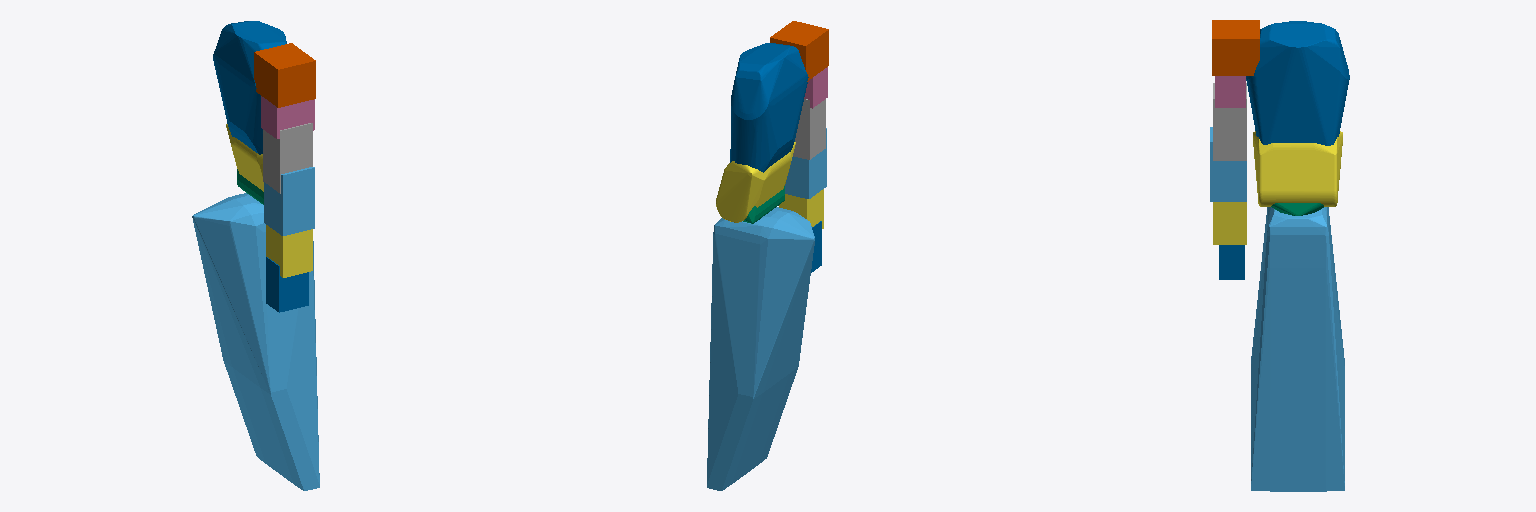
robot.urdf — test_arm:

<robot name="test_arm">

<link name="world" />

<joint name="world_to_base" type="fixed">
<parent link="world" />
<child link="root_link" />
<origin rpy="0 0 0" xyz="0 0 0" />
</joint>


<link name="root_link">
<visual>
<origin xyz="9.47873756175138e-18 -2.856872724499304e-17 -0.024000000000000684" rpy="-2.7618585142051945e-16 -0.0 6.8534929388594916e-31" />
<geometry>
<mesh filename=".//meshes/urdf/obj_combined_hulls/root_link.obj" />
</geometry>
</visual>
<collision>
<origin xyz="9.47873756175138e-18 -2.856872724499304e-17 -0.024000000000000684" rpy="-2.7618585142051945e-16 -0.0 6.8534929388594916e-31" />
<geometry>
<mesh filename=".//meshes/urdf/obj_combined_hulls/root_link.obj" />
</geometry>
</collision>
<inertial>
<origin xyz="0.00679928302344931 6.653692674201541e-07 -0.27815003570157115" rpy="0 0 0" />
<mass value="7.183594348600132" />
<inertia ixx="0.31483080293207405" ixy="5.062017097616084e-07" ixz="0.021323894598139104" iyy="0.3143282448173946" iyz="-1.2779834144653864e-06" izz="0.032395636611825186" />
</inertial>
</link>


<link name="torso_yaw_link">
<visual>
<origin xyz="0.0 1.262177448353619e-29 4.3368086899380734e-19" rpy="-1.8325957145940461 1.5707963267948966 0.0" />
<geometry>
<mesh filename=".//meshes/urdf/obj_combined_hulls/torso_yaw_link.obj" />
</geometry>
</visual>
<collision>
<origin xyz="0.0 1.262177448353619e-29 4.3368086899380734e-19" rpy="-1.8325957145940461 1.5707963267948966 0.0" />
<geometry>
<mesh filename=".//meshes/urdf/obj_combined_hulls/torso_yaw_link.obj" />
</geometry>
</collision>
<inertial>
<origin xyz="-0.00166403 -0.0101463 0.0623078" rpy="0 0 0" />
<mass value="1.922" />
<inertia ixx="0.006378107099964676" ixy="6.59823948125347e-05" ixz="4.522349518090528e-05" iyy="0.00268619309683605" iyz="0.0003399816945047182" izz="0.005342834122218298" />
</inertial>
</link>

<joint name="torso_yaw" type="revolute">
<origin xyz="-3.1105803444498797e-15 -5.762979069651171e-14 3.187988067975982e-15" rpy="3.7495554139391605e-14 2.213579307108516e-14 -1.4624371897651312e-14" />
<parent link="root_link" />
<child link="torso_yaw_link" />
<axis xyz="2.2135793071084816e-14 -3.77717399908133e-14 1.0000000000000007" />
<limit effort="70.0" velocity="4.1" lower="-0.7853981633974483" upper="0.7853981633974483" />

</joint>

<link name="torso_pitch_lower_link">
<visual>
<origin xyz="0.08 0.0 -0.08549999999999999" rpy="-1.5707963267948966 5.328688394996611e-30 1.5707963267948966" />
<geometry>
<mesh filename=".//meshes/urdf/obj_combined_hulls/torso_pitch_lower_link.obj" />
</geometry>
</visual>
<collision>
<origin xyz="0.08 0.0 -0.08549999999999999" rpy="-1.5707963267948966 5.328688394996611e-30 1.5707963267948966" />
<geometry>
<mesh filename=".//meshes/urdf/obj_combined_hulls/torso_pitch_lower_link.obj" />
</geometry>
</collision>
<inertial>
<origin xyz="-0.07573732954220565 -0.012714319395604561 -0.07998181952541111" rpy="0 0 0" />
<mass value="0.5423763129502652" />
<inertia ixx="0.0035963261683322626" ixy="-0.00025112304608164296" ixz="1.1650452549459382e-05" iyy="0.004013441490397242" iyz="5.2337508120182574e-06" izz="0.0017308649418825922" />
</inertial>
</link>

<joint name="torso_pitch_lower" type="revolute">
<origin xyz="-3.8322800119873655e-15 -0.08550037499999534 0.05599999999998974" rpy="1.5707963267948197 1.5707963267948657 0.0" />
<parent link="torso_yaw_link" />
<child link="torso_pitch_lower_link" />
<axis xyz="-3.059755751267585e-14 6.233280923648332e-14 1.0000000000000073" />
<limit effort="70.0" velocity="4.1" lower="-0.5235987755982988" upper="0.2617993877991494" />

</joint>

<link name="torso_pitch_upper_link">
<visual>
<origin xyz="0.0 2.7755575615628914e-17 0.003500000000000003" rpy="-1.5519979019635813e-30 1.5707963267948966 0.0" />
<geometry>
<mesh filename=".//meshes/urdf/obj_combined_hulls/torso_pitch_upper_link.obj" />
</geometry>
</visual>
<collision>
<origin xyz="0.0 2.7755575615628914e-17 0.003500000000000003" rpy="-1.5519979019635813e-30 1.5707963267948966 0.0" />
<geometry>
<mesh filename=".//meshes/urdf/obj_combined_hulls/torso_pitch_upper_link.obj" />
</geometry>
</collision>
<inertial>
<origin xyz="-0.015243445582268634 -0.14733934317604153 0.07604282037510816" rpy="0 0 0" />
<mass value="5.391439784540943" />
<inertia ixx="0.08453956115277658" ixy="-0.004628728157891779" ixz="0.0007906091526285789" iyy="0.028338851252210997" iyz="0.006181040264228648" izz="0.06417020298910171" />
</inertial>
</link>

<joint name="torso_pitch_upper" type="continuous">
<origin xyz="-0.09272887864750137 -0.02484663665963369 9.575673587391975e-16" rpy="-3.141592653589763 2.1637508065301426e-17 1.5707963267948966" />
<parent link="torso_pitch_lower_link" />
<child link="torso_pitch_upper_link" />
<axis xyz="-1.8748044307837196e-17 -3.013566795201047e-14 0.9999999999999998" />
<mimic joint="torso_pitch_lower" multiplier="-1.0" offset="0" />
<limit effort="70.0" velocity="4.1" />

</joint>


<link name="right_shoulder_fe_link">
<visual>
<origin xyz="-6.938893903907228e-18 0.0 0.06937500000000008" rpy="-5.586166405652295e-31 1.0471975511965979 1.5707963267948966" />
<geometry>
<mesh filename=".//meshes/urdf/obj_combined_hulls/right_shoulder_fe_link.obj" />
</geometry>
</visual>
<collision>
<origin xyz="-6.938893903907228e-18 0.0 0.06937500000000008" rpy="-5.586166405652295e-31 1.0471975511965979 1.5707963267948966" />
<geometry>
<mesh filename=".//meshes/urdf/obj_combined_hulls/right_shoulder_fe_link.obj" />
</geometry>
</collision>
<inertial>
<origin xyz="0.01804580832985173 0.02121518988650123 0.07186595457686923" rpy="0 0 0" />
<mass value="0.96" />
<inertia ixx="0.0011118011274775616" ixy="1.3330532192125175e-05" ixz="-0.00015374811936521172" iyy="0.0015260836322637708" iyz="-3.75399226410233e-06" izz="0.0012180806877555345" />
</inertial>
</link>

<joint name="right_shoulder_fe" type="revolute">
<origin xyz="-0.025653371670199543 -0.21558362067625494 -0.014419487612456233" rpy="2.6179938779914598 5.94530700557959e-14 -2.825363035797169e-14" />
<parent link="torso_pitch_upper_link" />
<child link="right_shoulder_fe_link" />
<axis xyz="1.8306063673256304e-15 5.398712404411842e-15 0.9999999999999682" />
<limit effort="36" velocity="8.9" lower="-0.7853981633974483" upper="3.141592653589793" />

</joint>



<link name="right_shoulder_aa_link">
<visual>
<origin xyz="0.0 2.7755575615628914e-17 -0.031625" rpy="-1.5707963267948966 -6.828148307168349e-30 1.5707963267948966" />
<geometry>
<mesh filename=".//meshes/urdf/obj_combined_hulls/right_shoulder_aa_link.obj" />
</geometry>
</visual>
<collision>
<origin xyz="0.0 2.7755575615628914e-17 -0.031625" rpy="-1.5707963267948966 -6.828148307168349e-30 1.5707963267948966" />
<geometry>
<mesh filename=".//meshes/urdf/obj_combined_hulls/right_shoulder_aa_link.obj" />
</geometry>
</collision>
<inertial>
<origin xyz="0.07196719932374168 -0.0007098319999853386 -0.031643070370183324" rpy="0 0 0" />
<mass value="0.778" />
<inertia ixx="0.000682161494531174" ixy="-2.2625796921700523e-05" ixz="2.1873666341189004e-06" iyy="0.001996192657199828" iyz="3.7615263729463516e-06" izz="0.0017492429411239572" />
</inertial>
</link>

<joint name="right_shoulder_aa" type="revolute">
<origin xyz="0.031625000000032516 -6.161737786669619e-15 0.06937500000000402" rpy="-1.5707963267951546 0.5235987755984383 -1.5707963267949658" />
<parent link="right_shoulder_fe_link" />
<child link="right_shoulder_aa_link" />
<axis xyz="1.300559538498458e-29 4.614183210861973e-13 0.9999999999999964" />
<limit effort="36" velocity="8.9" lower="-2.0943951023931953" upper="0" />

</joint>

<link name="right_shoulder_ie_link">
<visual>
<origin xyz="0.0 2.7755575615628914e-17 0.12912499999999996" rpy="-3.141592653589793 1.836970198721011e-16 4.5533793101955184e-29" />
<geometry>
<mesh filename=".//meshes/urdf/obj_combined_hulls/right_shoulder_ie_link.obj" />
</geometry>
</visual>
<collision>
<origin xyz="0.0 2.7755575615628914e-17 0.12912499999999996" rpy="-3.141592653589793 1.836970198721011e-16 4.5533793101955184e-29" />
<geometry>
<mesh filename=".//meshes/urdf/obj_combined_hulls/right_shoulder_ie_link.obj" />
</geometry>
</collision>
<inertial>
<origin xyz="0.0030550354452504387 -0.012093359926407128 0.07601648308677228" rpy="0 0 0" />
<mass value="0.8072296878184448" />
<inertia ixx="0.0019797222594324544" ixy="7.673159251833094e-05" ixz="-0.00018880428345477952" iyy="0.001851577667838464" iyz="0.0002895955851886462" izz="0.0007859102022404687" />
</inertial>
</link>

<joint name="right_shoulder_ie" type="revolute">
<origin xyz="0.12612595250008124 6.439293542825908e-15 -0.031624999999994935" rpy="-3.1415926535897474 -1.5707963267944338 0.0" />
<parent link="right_shoulder_aa_link" />
<child link="right_shoulder_ie_link" />
<axis xyz="-5.20639139448055e-16 3.085185518815391e-16 1.0000000000000189" />
<limit effort="19" velocity="8.9" lower="-1.5707963267948966" upper="1.5707963267948966" />

</joint>

<link name="right_shoulder_tracker_link" />

<joint name="right_shoulder_tracker" type="fixed">
<origin xyz="-0.005040000000000204 0.050999999999999865 0.07152500000000002" rpy="-1.5707963267948966 -1.836970198721011e-16 -3.141592653589793" />
<parent link="right_shoulder_ie_link" />
<child link="right_shoulder_tracker_link" />
</joint>


<link name="right_elbow_fe_link">
<visual>
<origin xyz="-2.7755575615628914e-17 0.010000000000000002 -0.026249999999999996" rpy="1.5707963267948966 3.390113629309306e-30 -1.5707963267948966" />
<geometry>
<mesh filename=".//meshes/urdf/obj_combined_hulls/right_elbow_fe_link.obj" />
</geometry>
</visual>
<collision>
<origin xyz="-2.7755575615628914e-17 0.010000000000000002 -0.026249999999999996" rpy="1.5707963267948966 3.390113629309306e-30 -1.5707963267948966" />
<geometry>
<mesh filename=".//meshes/urdf/obj_combined_hulls/right_elbow_fe_link.obj" />
</geometry>
</collision>
<inertial>
<origin xyz="0.06479056646004125 0.01118032668962237 -0.027502317500050166" rpy="0 0 0" />
<mass value="0.672" />
<inertia ixx="0.0004416806496044859" ixy="4.612887669291204e-05" ixz="-4.640819082345558e-05" iyy="0.0011042143804110072" iyz="-4.709754667063635e-06" izz="0.0010572810341188256" />
</inertial>
</link>

<joint name="right_elbow_fe" type="revolute">
<origin xyz="0.009999835019501649 -0.02600095250001952 0.1291249803636178" rpy="1.5707963267945642 -1.5707963267947342 0.0" />
<parent link="right_shoulder_ie_link" />
<child link="right_elbow_fe_link" />
<axis xyz="2.1619553916403353e-29 3.4295401762622856e-17 1.0000000000000022" />
<limit effort="19" velocity="8.9" lower="-2.6179938779914944" upper="0.17453292519943295" />

</joint>

<link name="right_forearm_tracker_link" />

<joint name="right_forearm_tracker" type="fixed">
<origin xyz="0.07549999999999997 0.015549460985616001 -0.07774999999999999" rpy="-1.852937997734199e-19 -3.390147667228127e-30 1.5707963267948966" />
<parent link="right_elbow_fe_link" />
<child link="right_forearm_tracker_link" />
</joint>



<link name="right_wrist_rotation_link">
<visual>
<origin xyz="0.0 0.0 6.938893903907228e-18" rpy="-3.141592653589793 2.5421260299864258e-30 1.2862303347851033e-30" />
<geometry>
<mesh filename=".//meshes/urdf/obj_combined_hulls/right_wrist_rotation_link.obj" />
</geometry>
</visual>
<collision>
<origin xyz="0.0 0.0 6.938893903907228e-18" rpy="-3.141592653589793 2.5421260299864258e-30 1.2862303347851033e-30" />
<geometry>
<mesh filename=".//meshes/urdf/obj_combined_hulls/right_wrist_rotation_link.obj" />
</geometry>
</collision>
<inertial>
<origin xyz="0.013932888268054104 -0.0002769051302899672 0.03586731395994533" rpy="0 0 0" />
<mass value="0.746" />
<inertia ixx="0.0009304154282668103" ixy="-1.4187291183130974e-05" ixz="-4.719506172503191e-05" iyy="0.0010219861460921522" iyz="-8.560399287826932e-07" izz="0.0004909679289931075" />
</inertial>
</link>

<joint name="right_wrist_rotation" type="revolute">
<origin xyz="0.10875095250009138 0.009999914957652428 -0.026250142730359804" rpy="-1.5707963267949576 1.0843404446966898e-13 -1.570796326794919" />
<parent link="right_elbow_fe_link" />
<child link="right_wrist_rotation_link" />
<axis xyz="7.977414277479792e-16 -4.1361313892512067e-16 0.9999999999999591" />
<limit effort="19" velocity="8.9" lower="-1.5707963267948966" upper="1.5707963267948966" />

</joint>



<link name="right_wrist_flexion_link">
<visual>
<origin xyz="0.0 -0.1225 0.016990950000000005" rpy="1.5707963267948966 1.5707963267948966 0.0" />
<geometry>
<mesh filename=".//meshes/urdf/obj_combined_hulls/right_wrist_flexion_link.obj" />
</geometry>
</visual>
<collision>
<origin xyz="0.0 -0.1225 0.016990950000000005" rpy="1.5707963267948966 1.5707963267948966 0.0" />
<geometry>
<mesh filename=".//meshes/urdf/obj_combined_hulls/right_wrist_flexion_link.obj" />
</geometry>
</collision>
<inertial>
<origin xyz="0.005295774683642261 0.04774105497029693 0.01659051997466799" rpy="0 0 0" />
<mass value="0.45249242436677656" />
<inertia ixx="0.0007976521578044414" ixy="-5.4027437508803006e-05" ixz="-1.703772251806697e-05" iyy="0.0002536937960376567" iyz="-2.982870641285682e-05" izz="0.0006965251193833308" />
</inertial>
</link>

<joint name="right_wrist_flexion" type="revolute">
<origin xyz="0.017000000000030484 1.0352829704629585e-14 0.1225000000001022" rpy="1.5707963267948966 -9.220294051054228e-29 -1.5707963267948954" />
<parent link="right_wrist_rotation_link" />
<child link="right_wrist_flexion_link" />
<axis xyz="1.1906708258248518e-15 1.1102230243724724e-16 1.0000000000000002" />
<limit effort="19" velocity="8.9" lower="-1.0471975511965976" upper="0.7853981633974483" />

</joint>



</robot>

--- Render facts (derived) ---
The picture shows the robot from 3 angles, left to right: view 1: azimuth 30°, elevation 25°; view 2: azimuth 150°, elevation 25°; view 3: azimuth 270°, elevation 25°; orthographic projection.
Robot: test_arm — 13 links, 12 joints (8 revolute, 1 continuous, 3 fixed); root link world; default pose: every joint at zero.
Links seen in each view (by area): view 1: root_link, torso_pitch_upper_link, right_shoulder_fe_link, right_elbow_fe_link, right_shoulder_ie_link, right_wrist_rotation_link, right_wrist_flexion_link, right_shoulder_aa_link, torso_pitch_lower_link; view 2: root_link, torso_pitch_upper_link, torso_pitch_lower_link, right_shoulder_fe_link, right_elbow_fe_link, right_shoulder_ie_link, right_wrist_rotation_link, right_shoulder_aa_link; view 3: root_link, torso_pitch_upper_link, torso_pitch_lower_link, right_shoulder_fe_link, right_shoulder_ie_link, right_elbow_fe_link, right_wrist_rotation_link, right_shoulder_aa_link, right_wrist_flexion_link.
Link boxes in pixels (box(x1,y1,x2,y2)): root_link: box(192, 193, 319, 490); torso_pitch_upper_link: box(213, 21, 286, 154); right_shoulder_fe_link: box(254, 43, 315, 107); right_elbow_fe_link: box(264, 167, 314, 235); right_shoulder_ie_link: box(263, 123, 312, 193); right_wrist_rotation_link: box(266, 225, 312, 277); right_wrist_flexion_link: box(266, 257, 308, 312); right_shoulder_aa_link: box(261, 96, 314, 138); torso_pitch_lower_link: box(226, 124, 263, 191); root_link: box(707, 207, 814, 490); torso_pitch_upper_link: box(730, 43, 808, 172); torso_pitch_lower_link: box(716, 142, 795, 222); right_shoulder_fe_link: box(770, 21, 828, 81); right_elbow_fe_link: box(785, 128, 826, 198); right_shoulder_ie_link: box(793, 99, 825, 159); right_wrist_rotation_link: box(779, 189, 823, 228); right_shoulder_aa_link: box(804, 67, 827, 108); root_link: box(1251, 207, 1344, 491); torso_pitch_upper_link: box(1246, 21, 1349, 145); torso_pitch_lower_link: box(1253, 131, 1342, 206); right_shoulder_fe_link: box(1212, 20, 1259, 75); right_shoulder_ie_link: box(1213, 83, 1246, 160); right_elbow_fe_link: box(1210, 127, 1246, 201); right_wrist_rotation_link: box(1213, 202, 1246, 244); right_shoulder_aa_link: box(1215, 76, 1245, 107); right_wrist_flexion_link: box(1219, 245, 1244, 279).
Bounding box of the posed robot: 0.267 × 0.3309 × 1.16 m (x, y, z).
Meshes: 10 distinct files referenced, 10 mesh visuals loaded (10 OBJ).